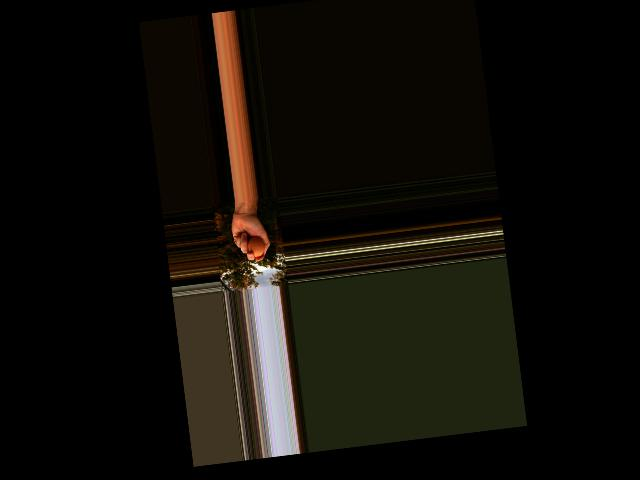egg: (245, 235, 265, 258)
